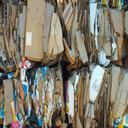cardboard: (0, 0, 127, 127), (89, 0, 127, 63), (31, 63, 65, 127), (1, 69, 35, 127), (62, 0, 92, 63), (0, 0, 25, 69), (104, 61, 127, 127), (84, 62, 105, 127), (24, 0, 44, 62), (65, 68, 84, 127), (45, 0, 63, 62)
